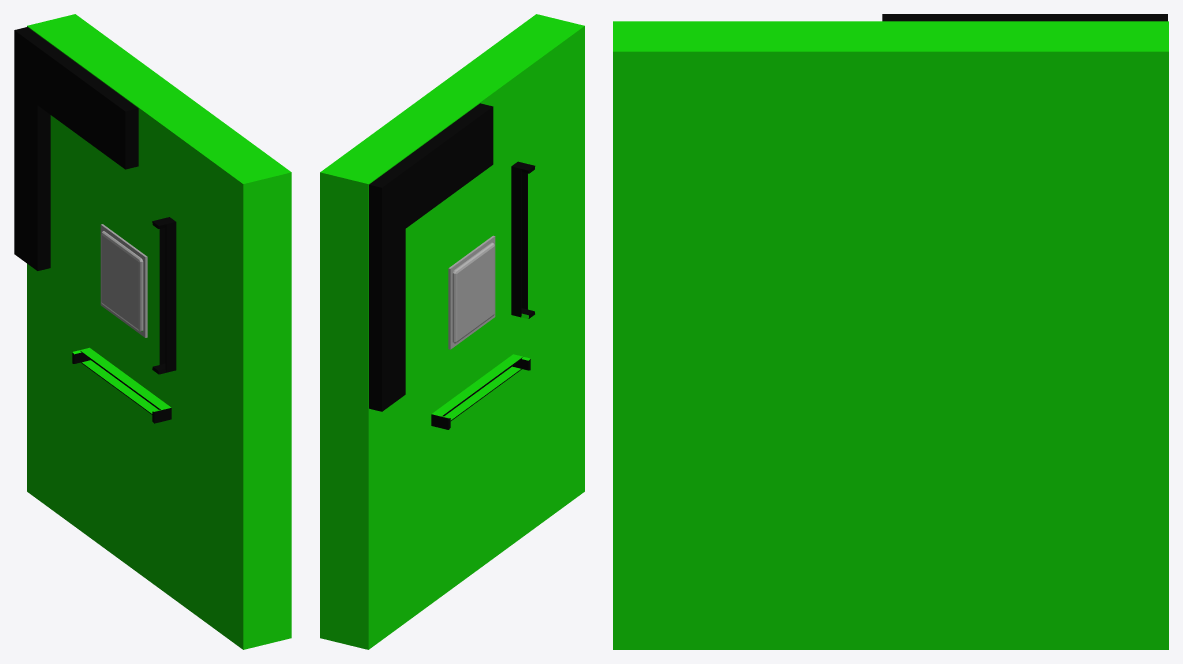
File: motherboard_Scene.fbx
3 views of the same model, side by side, from view 1: azimuth 30°, elevation 25°; view 2: azimuth 150°, elevation 25°; view 3: azimuth 270°, elevation 25° (orthographic). The views are drawn at different scales.
Visible parts, largest first — view 1: Cube.008; view 2: Cube.008; view 3: Cube.008.
Boxes of the visible parts, left/top/right/bottom form: Cube.008: left=14, top=14, right=291, bottom=649; Cube.008: left=320, top=14, right=584, bottom=649; Cube.008: left=613, top=14, right=1168, bottom=649.
Size of the model in its own units: 38.4 by 260 by 218.
